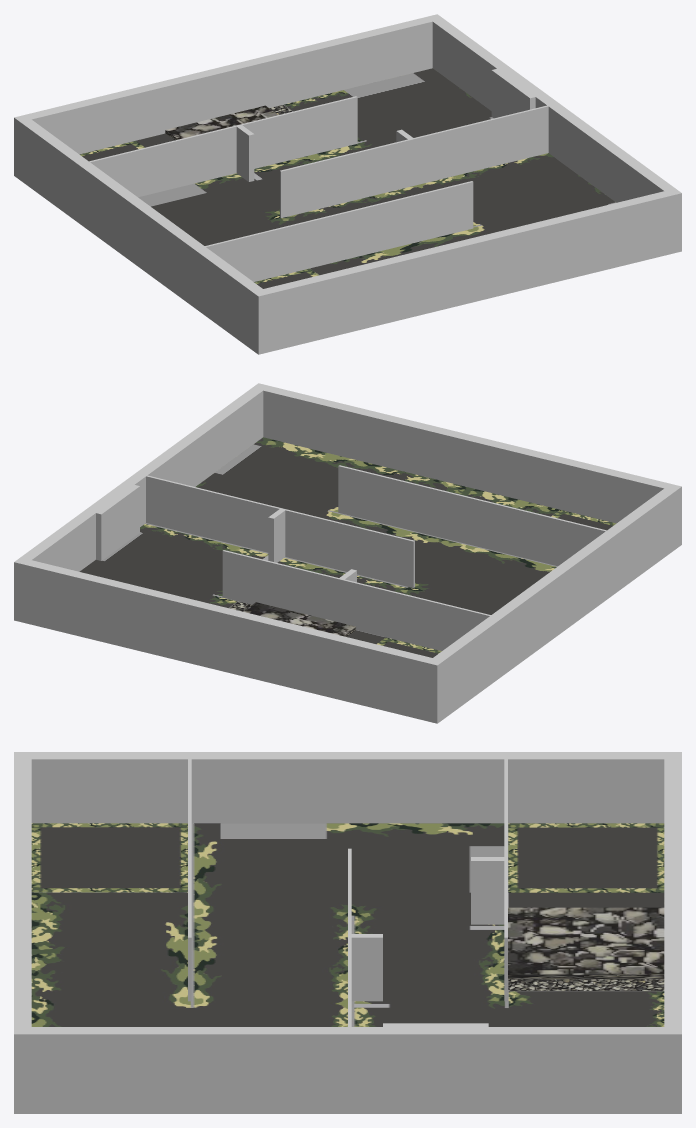
3 renders of one model, top to bottom at view 1: azimuth 30°, elevation 25°; view 2: azimuth 150°, elevation 25°; view 3: azimuth 270°, elevation 25°, orthographic. The views are drawn at different scales.
Parts seen in each view (by area): view 1: 平面, 立方体.005, 立方体.004, 立方体.003, 立方体.002, 立方体, 立方体.001, 立方体.006, 立方体.009, 立方体.012, 立方体.008; view 2: 平面, 立方体.004, 立方体.005, 立方体.003, 立方体.002, 立方体, 立方体.001, 立方体.006, 立方体.009, 立方体.012, 立方体.007; view 3: 平面, 立方体.006, 立方体.003, 立方体.012, 立方体.005, 立方体.004, 立方体.008, 立方体.007, 立方体, 立方体.001, 立方体.002.
Part boxes in pixels (<box>): 平面: <box>79,68,616,288</box>; 立方体.005: <box>263,191,670,351</box>; 立方体.004: <box>25,17,432,154</box>; 立方体.003: <box>14,115,269,354</box>; 立方体.002: <box>280,105,548,218</box>; 立方体: <box>205,181,473,281</box>; 立方体.001: <box>89,96,357,197</box>; 立方体.006: <box>427,14,681,253</box>; 立方体.009: <box>491,69,535,118</box>; 立方体.012: <box>165,105,277,140</box>; 立方体.008: <box>236,125,254,181</box>; 平面: <box>79,437,616,657</box>; 立方体.004: <box>25,560,432,720</box>; 立方体.005: <box>263,386,670,523</box>; 立方体.003: <box>426,484,681,723</box>; 立方体.002: <box>146,475,414,587</box>; 立方体: <box>338,465,606,566</box>; 立方体.001: <box>222,550,490,650</box>; 立方体.006: <box>14,383,268,622</box>; 立方体.009: <box>96,485,139,560</box>; 立方体.012: <box>243,602,356,636</box>; 立方体.007: <box>268,509,285,562</box>; 平面: <box>31,823,664,1026</box>; 立方体.006: <box>14,1027,681,1113</box>; 立方体.003: <box>14,752,681,823</box>; 立方体.012: <box>508,907,664,979</box>; 立方体.005: <box>14,759,31,1026</box>; 立方体.004: <box>664,759,681,1026</box>; 立方体.008: <box>471,857,506,924</box>; 立方体.007: <box>348,934,382,1001</box>; 立方体: <box>188,759,191,1001</box>; 立方体.001: <box>504,759,507,1001</box>; 立方体.002: <box>348,848,351,1026</box>.
Size of the model in its own units: 3.8 by 3.8 by 0.5.
